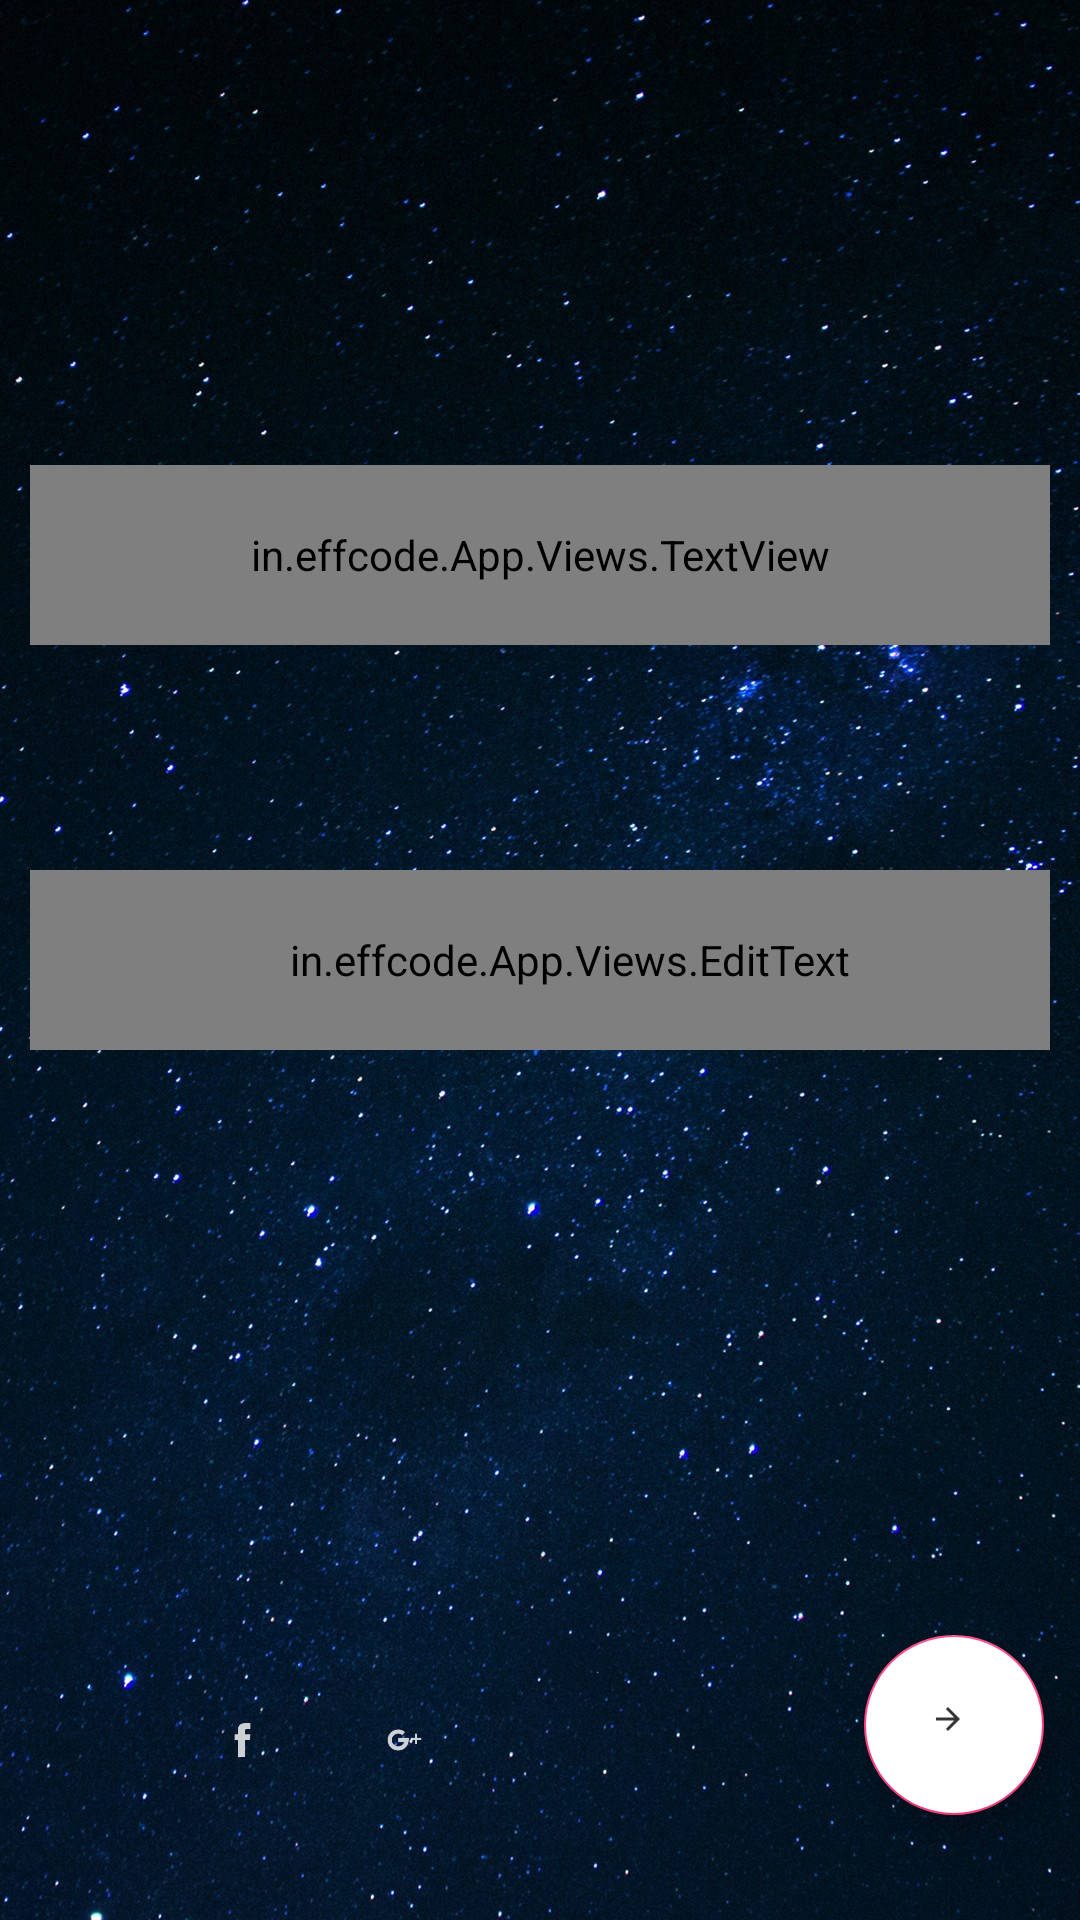

Icons on this 1080w x 1920h Android screen, each with the point to tap as (x=x, y=y):
arrow right: (x=954, y=1725)
